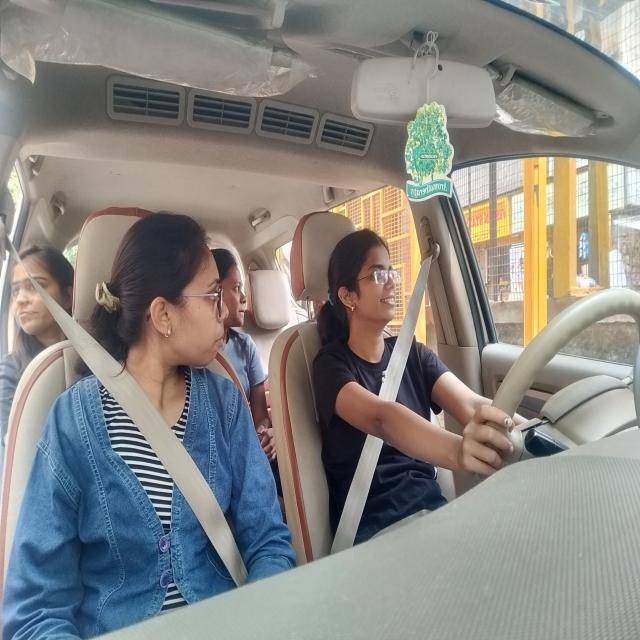person: (112, 212, 229, 384), (328, 223, 398, 330), (14, 243, 78, 339), (218, 247, 253, 338)
